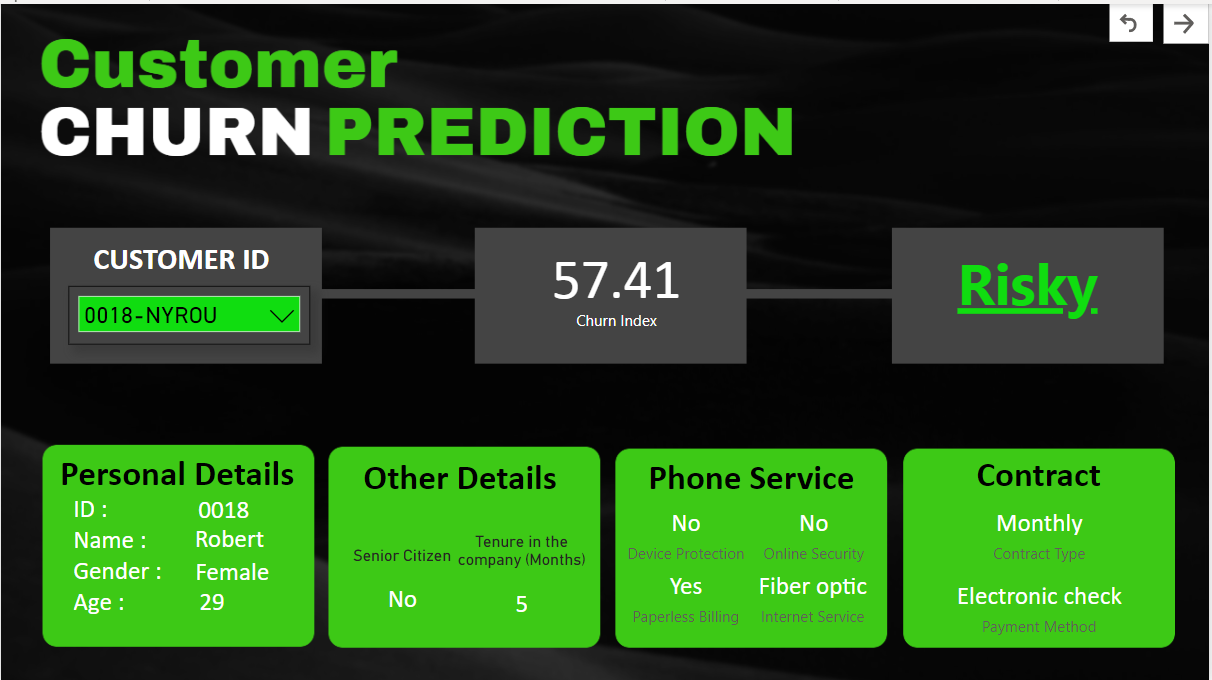

Layout of this report page (visuals, bound fields, positions):
{"tool":"powerbi","page":{"name":"churn prediction","canvas":[1280,720],"ordinal":2},"visuals":[{"type":"card","fields":{"Values":["Min(Telco-Churn-Analysis-Predictions.ID)"]},"box":[190,507.1,90,57.1],"z":0},{"type":"card","fields":{"Values":["Min(Telco-Churn-Analysis-Predictions.gender)"]},"box":[171.2,572.5,146.2,56.2],"z":1000},{"type":"card","title":"Tenure in the company (Months)","fields":{"Values":["Sum(Telco-Churn-Analysis-Predictions.tenure)"]},"box":[462,560,178,112],"z":2000},{"type":"card","fields":{"Values":["Min(Telco-Churn-Analysis-Predictions.Contract Type)"]},"box":[930,513.3,340,92.2],"z":3000},{"type":"card","title":"Senior Citizen","fields":{"Values":["Min(Telco-Churn-Analysis-Predictions.SeniorCitizen)"]},"box":[364,574,122,92],"z":4000},{"type":"card","fields":{"Values":["Min(Telco-Churn-Analysis-Predictions.DeviceProtection)"]},"box":[640,493.3,170,133.3],"z":5000},{"type":"card","fields":{"Values":["Min(Telco-Churn-Analysis-Predictions.InternetService)"]},"box":[760,560,200,134.3],"z":6000},{"type":"card","fields":{"Values":["Min(Telco-Churn-Analysis-Predictions.PaperlessBilling)"]},"box":[640,560,170,134.4],"z":7000},{"type":"card","fields":{"Values":["Min(Telco-Churn-Analysis-Predictions.OnlineSecurity)"]},"box":[776.7,493.3,167.8,133.3],"z":8000},{"type":"slicer","fields":{"Values":["Telco-Churn-Analysis-Predictions.customerID"]},"box":[72,299,256,62],"z":9000},{"type":"textbox","box":[72,244,218,52],"z":10000},{"type":"textbox","box":[71.4,512.9,132.9,152.9],"z":11000},{"type":"textbox","box":[200,545.5,170,61.8],"z":12000},{"type":"textbox","box":[204.5,611.8,59.1,49.1],"z":13000},{"type":"textbox","box":[24.3,468.6,325.7,57.1],"z":14000},{"type":"textbox","box":[650,474,290,76],"z":15000},{"type":"textbox","box":[1015.6,470,167.8,75.6],"z":16000},{"type":"card","fields":{"Values":["Min(Telco-Churn-Analysis-Predictions.PaymentMethod)"]},"box":[962.2,587.8,276.7,97.8],"z":17000},{"type":"card","fields":{"Values":["Sum(Telco-Churn-Analysis-Predictions.Prediction)"]},"box":[566,232,172,128],"z":19000},{"type":"card","fields":{"Values":["Max(Telco-Churn-Analysis-Predictions.Risk)"]},"box":[940,266,296,76],"z":23000},{"type":"textbox","box":[354,474,264,72],"z":25000},{"type":"actionButton","box":[1174,0,46,40],"z":27000},{"type":"actionButton","box":[1232,0,48,42],"z":28000}]}

Visuals, with their boxes in screenshot pixels (x1, y1, x2, y2), scaled from the page's 1280x720 canvas onto the 1212x680 screenshot:
card - Min(Telco-Churn-Analysis-Predictions.ID): rect(180, 479, 265, 533)
card - Min(Telco-Churn-Analysis-Predictions.gender): rect(162, 541, 301, 594)
"Tenure in the company (Months)" card: rect(437, 529, 606, 635)
card - Min(Telco-Churn-Analysis-Predictions.Contract Type): rect(881, 485, 1203, 572)
"Senior Citizen" card: rect(345, 542, 460, 629)
card - Min(Telco-Churn-Analysis-Predictions.DeviceProtection): rect(606, 466, 767, 592)
card - Min(Telco-Churn-Analysis-Predictions.InternetService): rect(720, 529, 909, 656)
card - Min(Telco-Churn-Analysis-Predictions.PaperlessBilling): rect(606, 529, 767, 656)
card - Min(Telco-Churn-Analysis-Predictions.OnlineSecurity): rect(735, 466, 894, 592)
slicer - Telco-Churn-Analysis-Predictions.customerID: rect(68, 282, 311, 341)
textbox: rect(68, 230, 275, 280)
textbox: rect(68, 484, 193, 629)
textbox: rect(189, 515, 350, 574)
textbox: rect(194, 578, 250, 624)
textbox: rect(23, 443, 331, 496)
textbox: rect(615, 448, 890, 519)
textbox: rect(962, 444, 1121, 515)
card - Min(Telco-Churn-Analysis-Predictions.PaymentMethod): rect(911, 555, 1173, 648)
card - Sum(Telco-Churn-Analysis-Predictions.Prediction): rect(536, 219, 699, 340)
card - Max(Telco-Churn-Analysis-Predictions.Risk): rect(890, 251, 1170, 323)
textbox: rect(335, 448, 585, 516)
actionButton: rect(1112, 0, 1155, 38)
actionButton: rect(1167, 0, 1211, 40)
